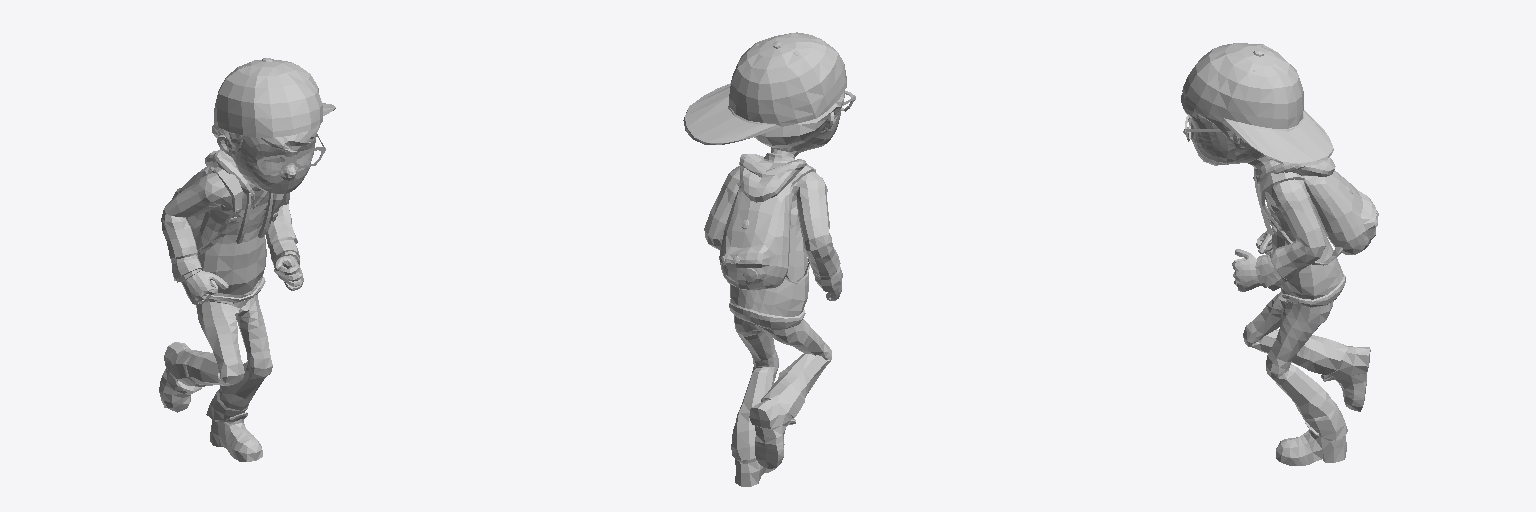
File: walk08.obj
The picture shows the model from 3 angles: view 1: azimuth 30°, elevation 25°; view 2: azimuth 150°, elevation 25°; view 3: azimuth 270°, elevation 25°; orthographic projection.
Parts seen in each view (by area): view 1: Boy01_Body_Geo_Boy01_Body_GeoMesh, h_Geo_h_GeoMesh, Boy01_Eyes_Geo_Boy01_Eyes_GeoMesh, Boy01_Brows_Geo_Boy01_Brows_GeoMesh; view 2: Boy01_Body_Geo_Boy01_Body_GeoMesh; view 3: Boy01_Body_Geo_Boy01_Body_GeoMesh.
Part boxes in pixels (bbox=[...]): Boy01_Body_Geo_Boy01_Body_GeoMesh: bbox=[159, 58, 335, 461]; h_Geo_h_GeoMesh: bbox=[253, 162, 310, 193]; Boy01_Eyes_Geo_Boy01_Eyes_GeoMesh: bbox=[247, 140, 315, 175]; Boy01_Brows_Geo_Boy01_Brows_GeoMesh: bbox=[246, 134, 316, 157]; Boy01_Body_Geo_Boy01_Body_GeoMesh: bbox=[683, 32, 855, 486]; Boy01_Body_Geo_Boy01_Body_GeoMesh: bbox=[1181, 43, 1378, 465].
Size of the model in its own units: 0.6897 by 1.74 by 0.7598.